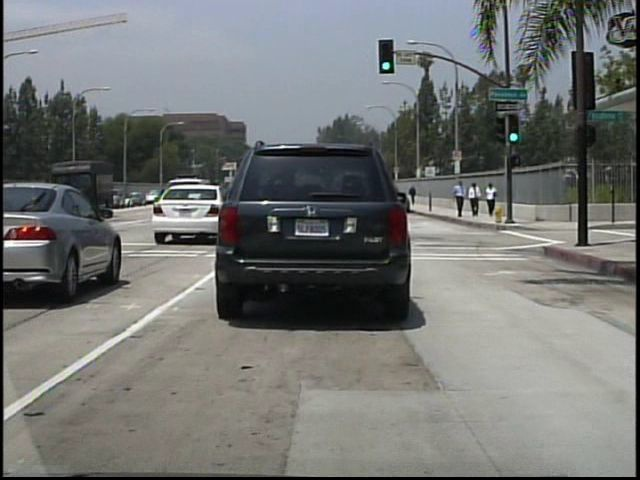person: (453, 178, 468, 219), (467, 180, 482, 217), (484, 180, 497, 216), (407, 184, 417, 206)
